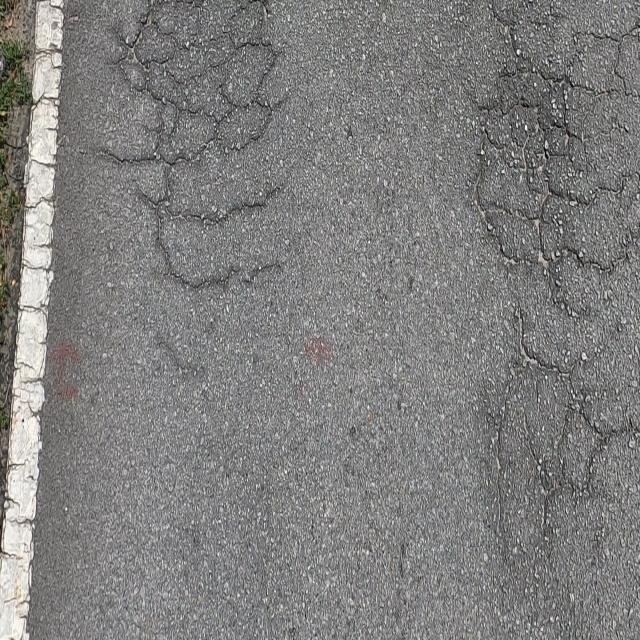Retak-Buaya: (466, 3, 639, 541), (91, 0, 278, 300)
